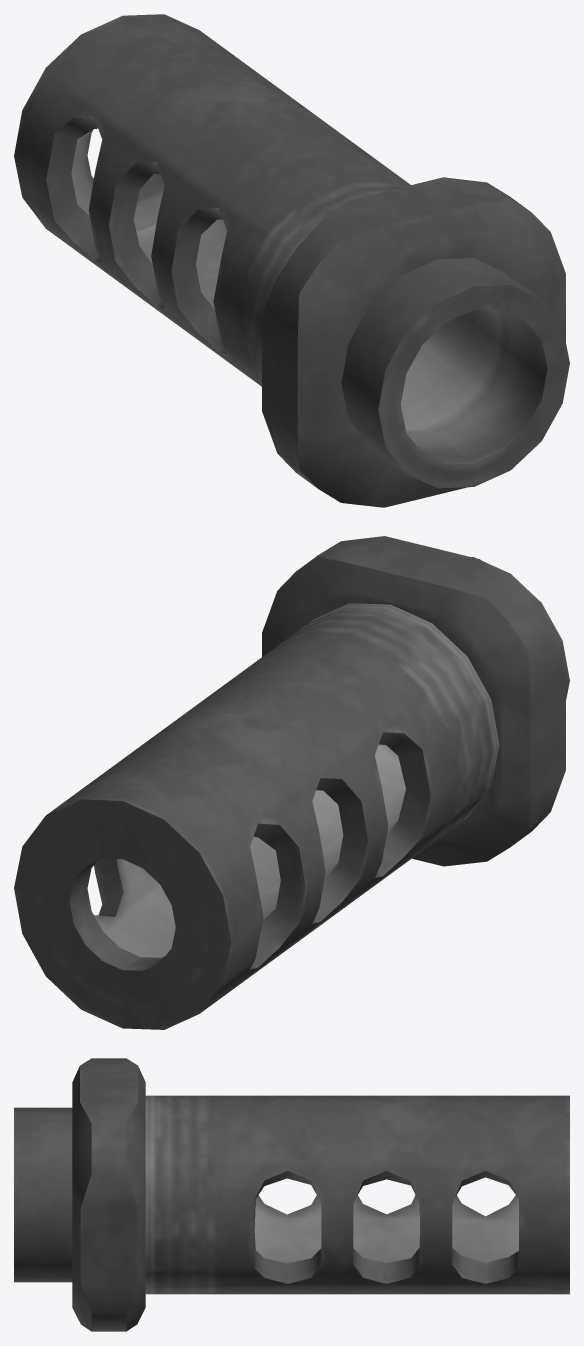
File: IG_Acc_Muzzle_AR_DAM_1.fbx
3 views of the same model, one above another, from view 1: azimuth 30°, elevation 25°; view 2: azimuth 150°, elevation 25°; view 3: azimuth 270°, elevation 25° (orthographic). The views are drawn at different scales.
Parts seen in each view (by area): view 1: Muzzle_AR_DAM_1; view 2: Muzzle_AR_DAM_1; view 3: Muzzle_AR_DAM_1.
Part boxes in pixels (<box>): Muzzle_AR_DAM_1: <box>14,14,569,507</box>; Muzzle_AR_DAM_1: <box>14,536,569,1029</box>; Muzzle_AR_DAM_1: <box>14,1058,569,1331</box>.
Bounding box in the file's own units: 0.0728 × 0.0728 × 0.1652.
